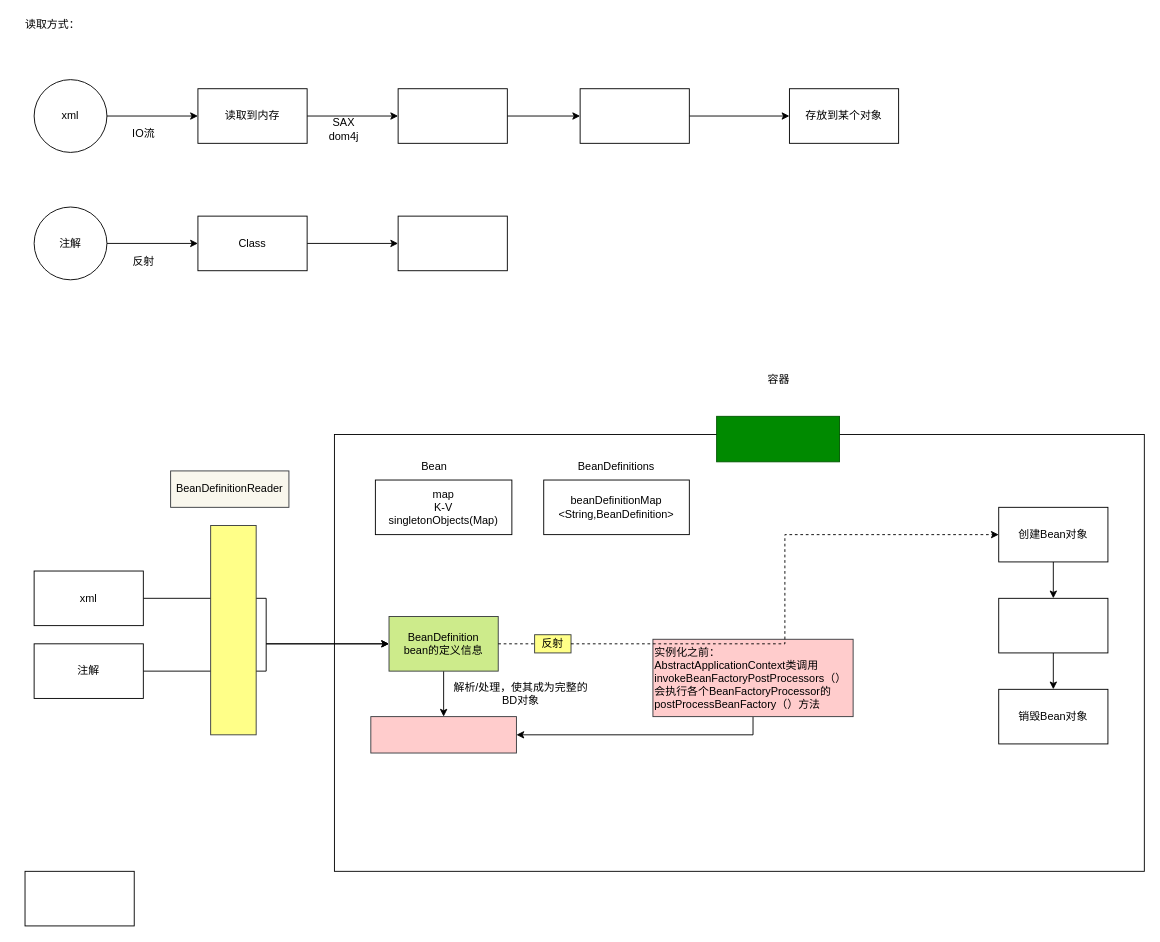
Some shapes in this 1160 by 942 pixel diagram are drawn without their labels. The shapes that lost their labels are listed below. From the top down, each one's centre as x and y in pixels, then its label:
At (452,115): "document".
At (634,115): "node".
At (452,243): "getAnnotation".
At (777,438): "BeanFactory/ ApplicationContext".
At (233,630): "接口 约束 规范".
At (1053,625): "使用Bean对象".
At (443,734): "BeanFactoryPostProcessor".
At (79,898): "接口：自上向下 抽象类：自下向上".
